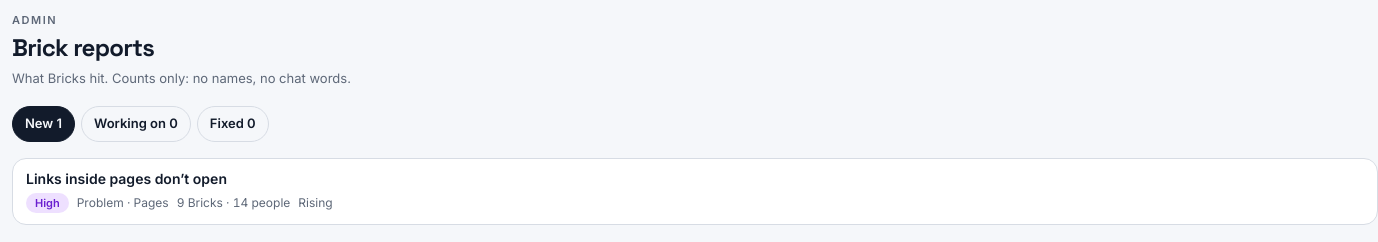
Test: the inbox › another tab reads that tab, and an empty one says so
Click the button with test id "brick-reports-tab-fixed".
click(233, 124)  # box [197,106,269,142]
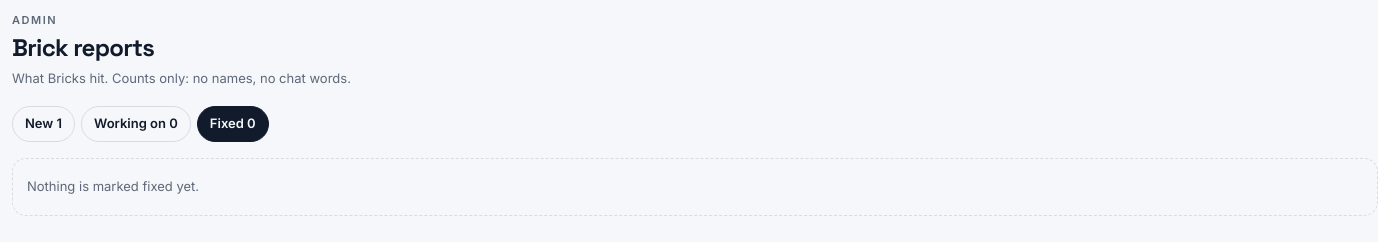
Result: the text "Nothing is marked fixed yet." is shown at [12,158,1377,216]
